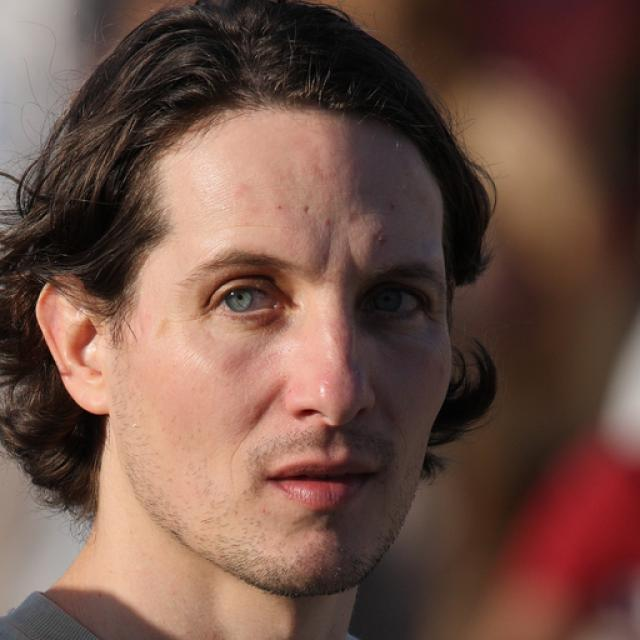Acne: (367, 233, 396, 250), (318, 213, 343, 232), (382, 199, 402, 214)
